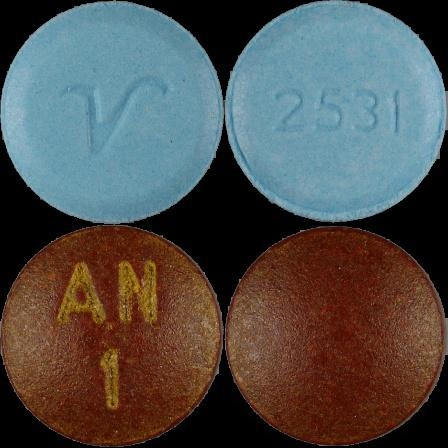68788-9495: (0, 0, 224, 224)
